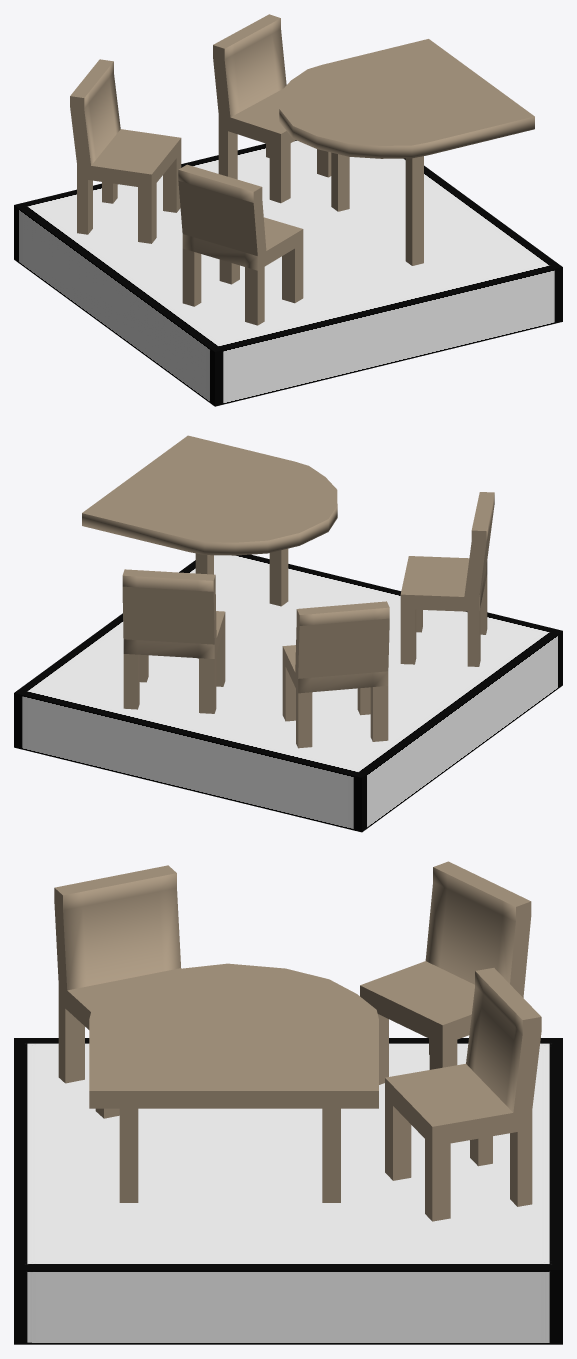
File: tile_table_2.gltf
3 renders of one model, top to bottom at view 1: azimuth 30°, elevation 25°; view 2: azimuth 150°, elevation 25°; view 3: azimuth 270°, elevation 25°, orthographic. The views are drawn at different scales.
Parts seen in each view (by area): view 1: tile_table_2; view 2: tile_table_2; view 3: tile_table_2.
Part boxes in pixels (x1,y1,x2,y2): tile_table_2: (14,14,562,406); tile_table_2: (14,435,562,832); tile_table_2: (14,861,562,1344).
Bounding box in the file's own units: 2 × 1.05 × 2.
Materials: 2 (1 with a texture image).
